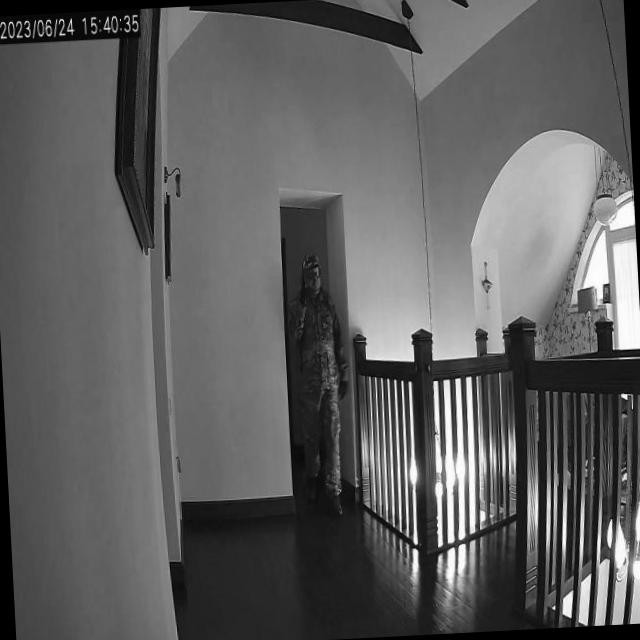gun: (277, 236, 306, 346)
person with a gun: (290, 252, 356, 514)
